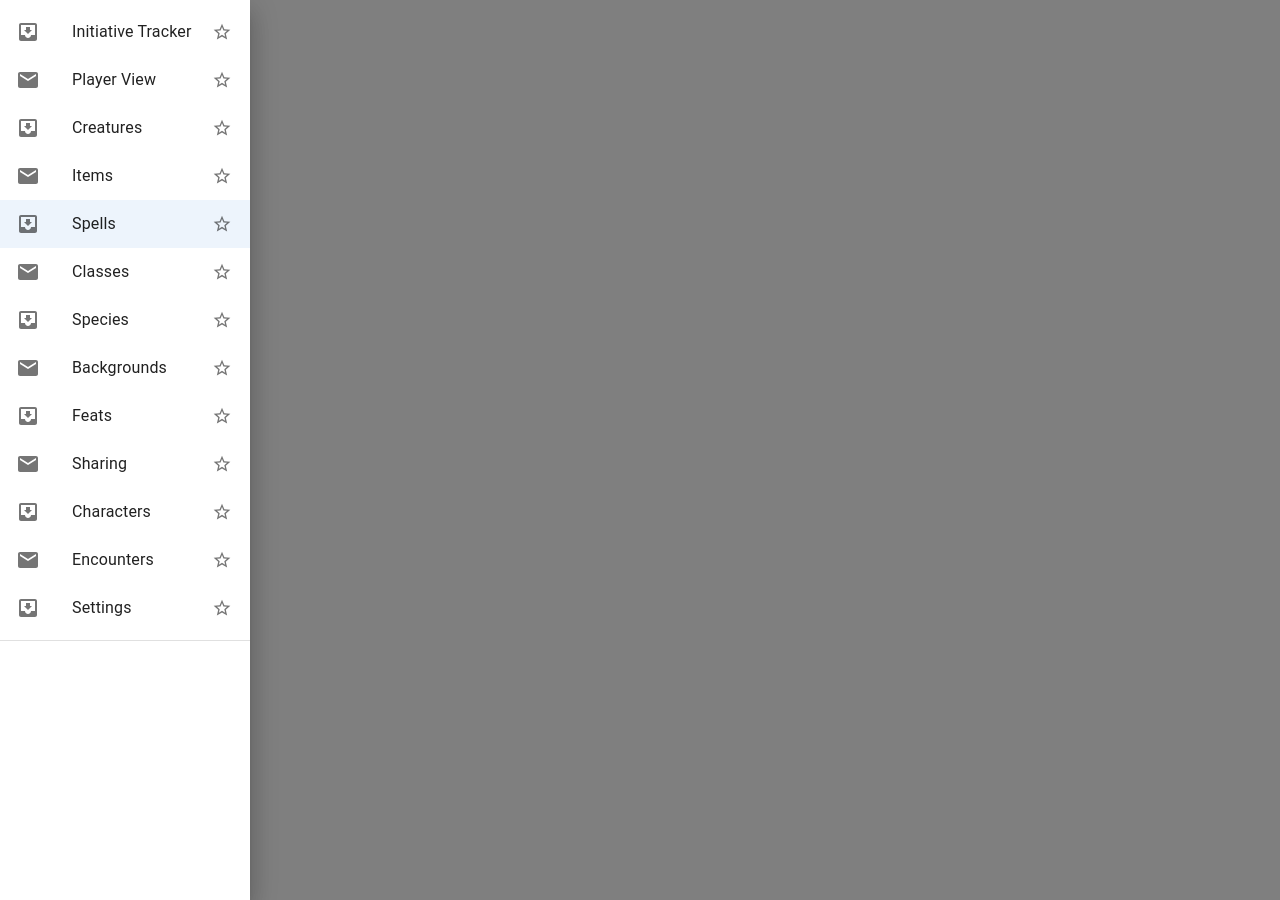
it: the drawer's favorites › pins a page to the top, keeps and sends it, and leaves it in the full list
Click the button named "Pin Creatures to favorites": (222, 128) [207,113,237,143]
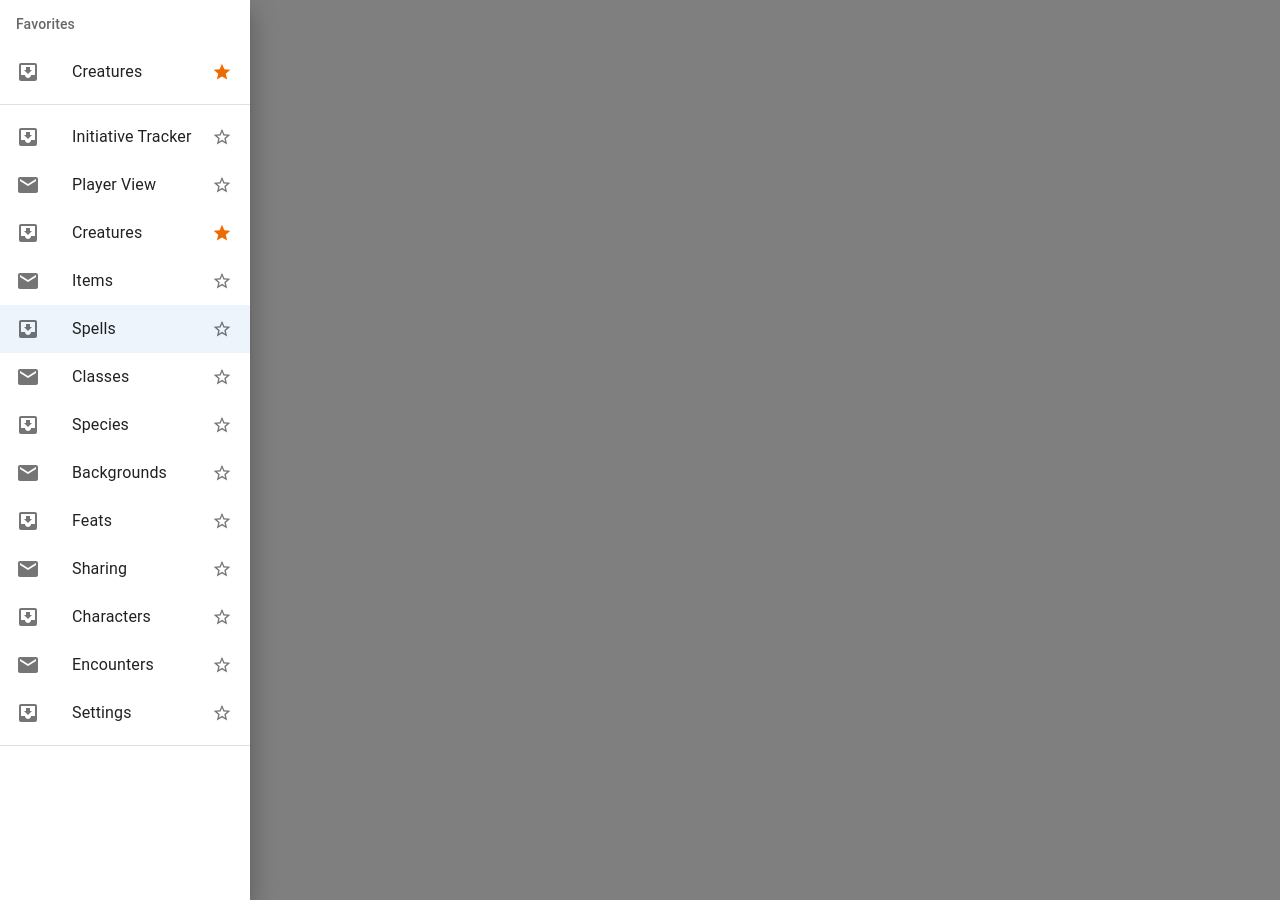
Expected: the 2nd text "Creatures" is shown, [72,223,142,242]
Expected: the text "Creatures" below "Favorites" is shown, [72,62,142,81]
